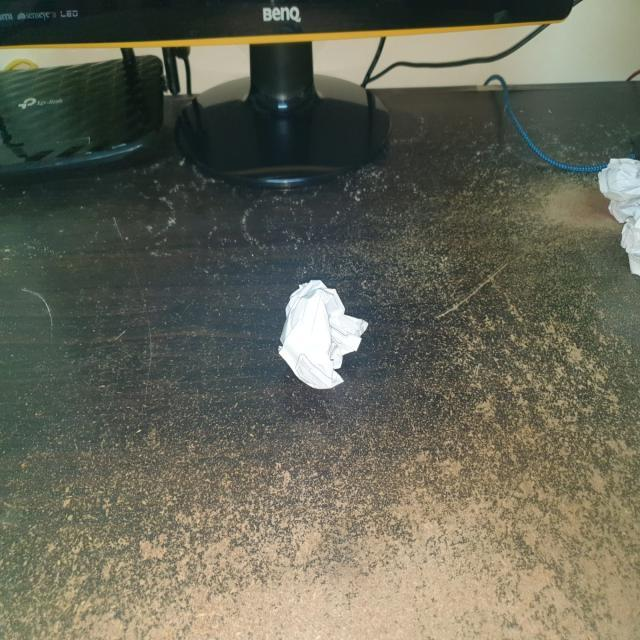Paper: (279, 277, 368, 386)
